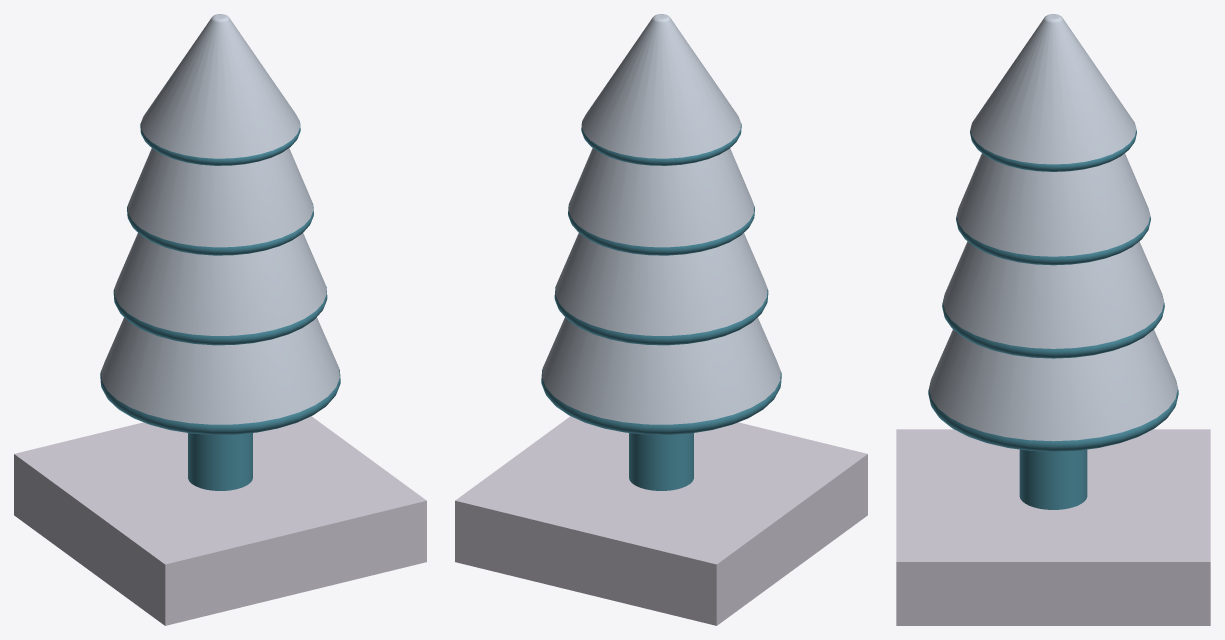
File: ice_tree.fbx
The picture shows the model from 3 angles, left to right: view 1: azimuth 30°, elevation 25°; view 2: azimuth 150°, elevation 25°; view 3: azimuth 270°, elevation 25°; orthographic projection. The views are drawn at different scales.
Visible parts, largest first — view 1: ice tree, Cube.023, ice tree base; view 2: ice tree, Cube.023, ice tree base; view 3: ice tree, Cube.023, ice tree base.
Part boxes in pixels (<box>): ice tree: <box>100,14,340,434</box>; Cube.023: <box>14,416,426,625</box>; ice tree base: <box>188,433,252,490</box>; ice tree: <box>541,14,781,434</box>; Cube.023: <box>455,416,867,625</box>; ice tree base: <box>629,433,693,490</box>; ice tree: <box>928,14,1178,451</box>; Cube.023: <box>896,429,1210,625</box>; ice tree base: <box>1019,449,1087,509</box>.
Size of the model in its own units: 108 by 206 by 108.
